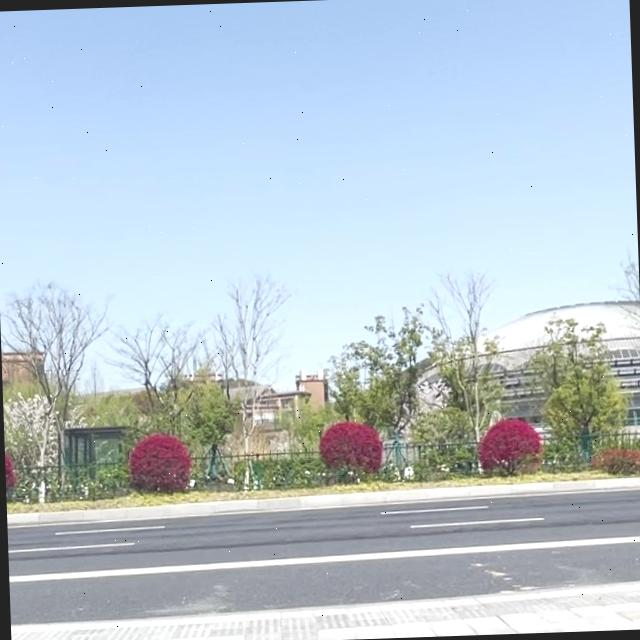curb: (11, 580, 640, 633), (7, 477, 640, 527)
